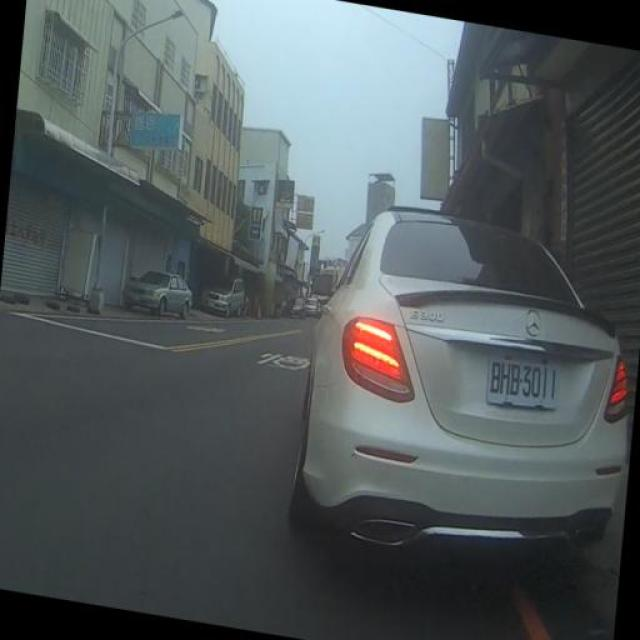Legalparking: (118, 258, 265, 334)
illegalparking: (288, 208, 635, 585)
